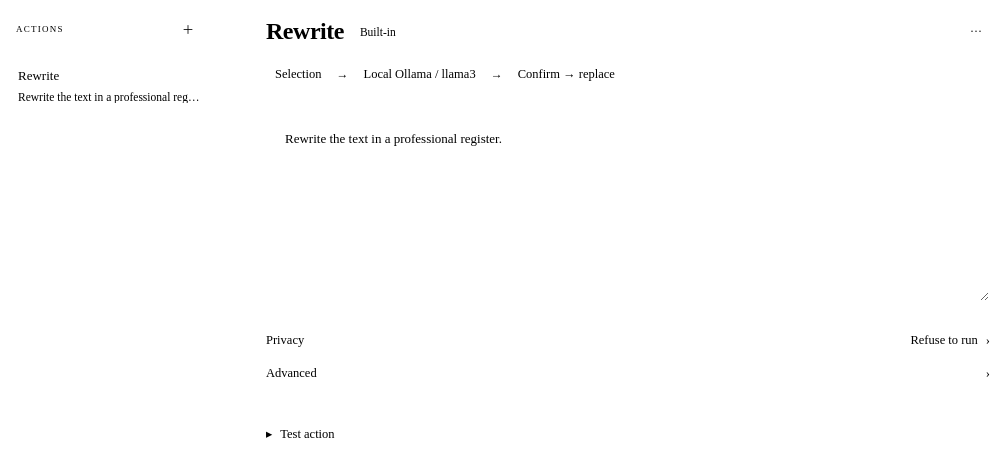
Scenario: ActionsPage — the studio › asks what a new action should do instead of opening an empty form
This screenshot has width=1007, height=455.
Click the button "＋" at x=188, y=29, box [174,16,202,42]
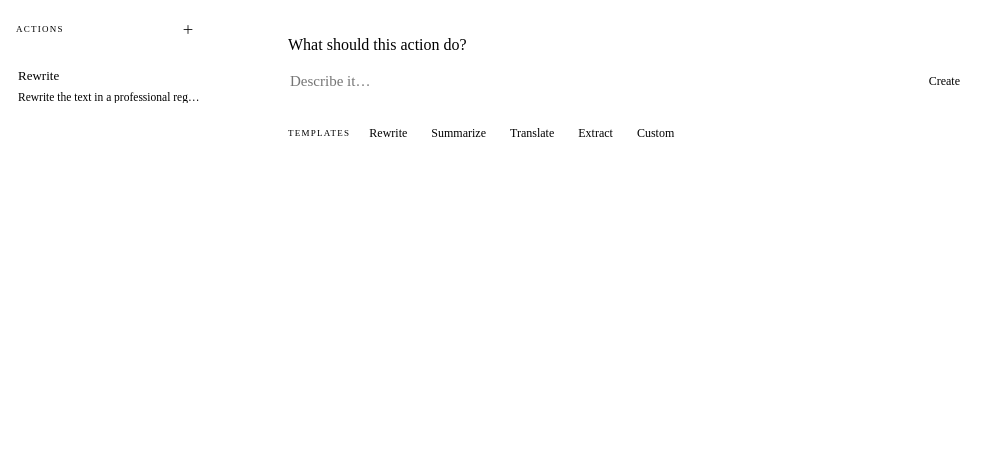
Check: the heading "What should this action do?" is shown, box [288,36,467,53]
Click the button "Summarize" at x=459, y=133, box [422,120,495,146]
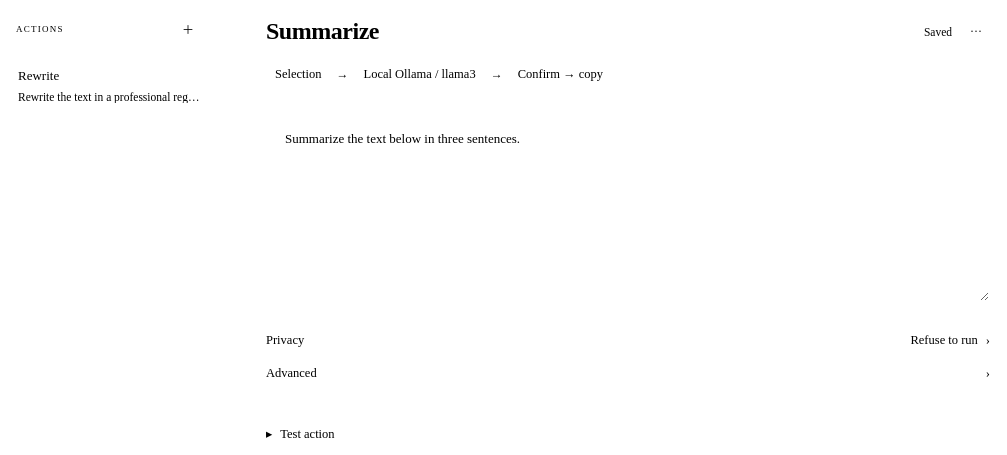
Check: the text box named "Instruction" holds "Summarize the text below in three sentences.", box [266,112,990,302]
